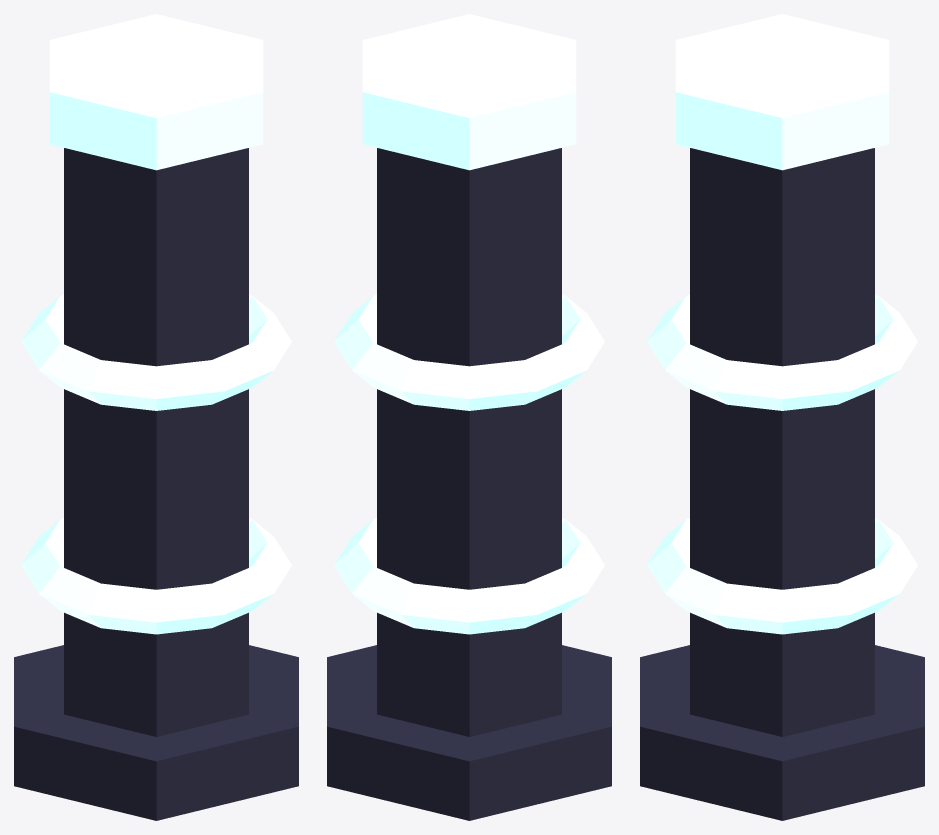
Rendered from laser_post.glb.
3 views of the same model, side by side, from view 1: azimuth 30°, elevation 25°; view 2: azimuth 150°, elevation 25°; view 3: azimuth 270°, elevation 25° (orthographic).
Visible parts, largest first — view 1: LaserPost; view 2: LaserPost; view 3: LaserPost.
Part boxes in pixels (x1,y1,x2,y2): LaserPost: [14, 14, 298, 820]; LaserPost: [327, 14, 611, 820]; LaserPost: [640, 14, 924, 820].
Size of the model in its own units: 0.4 by 0.92 by 0.3464.
